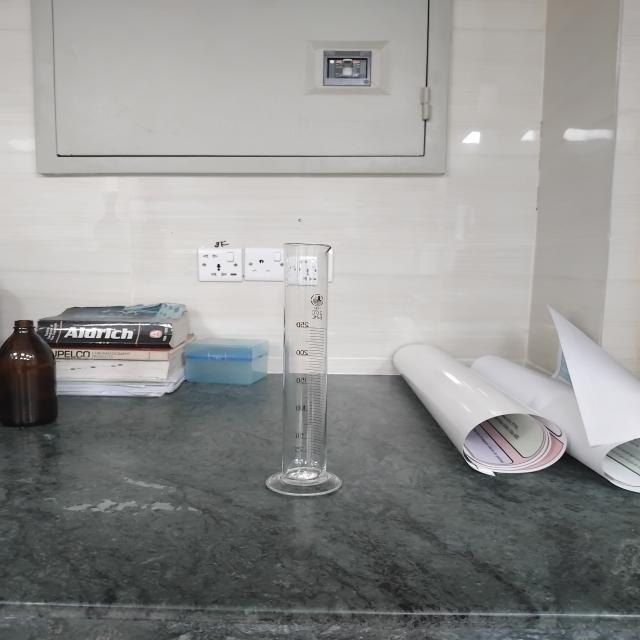Measuring_Cylinder: (234, 196, 367, 518)
